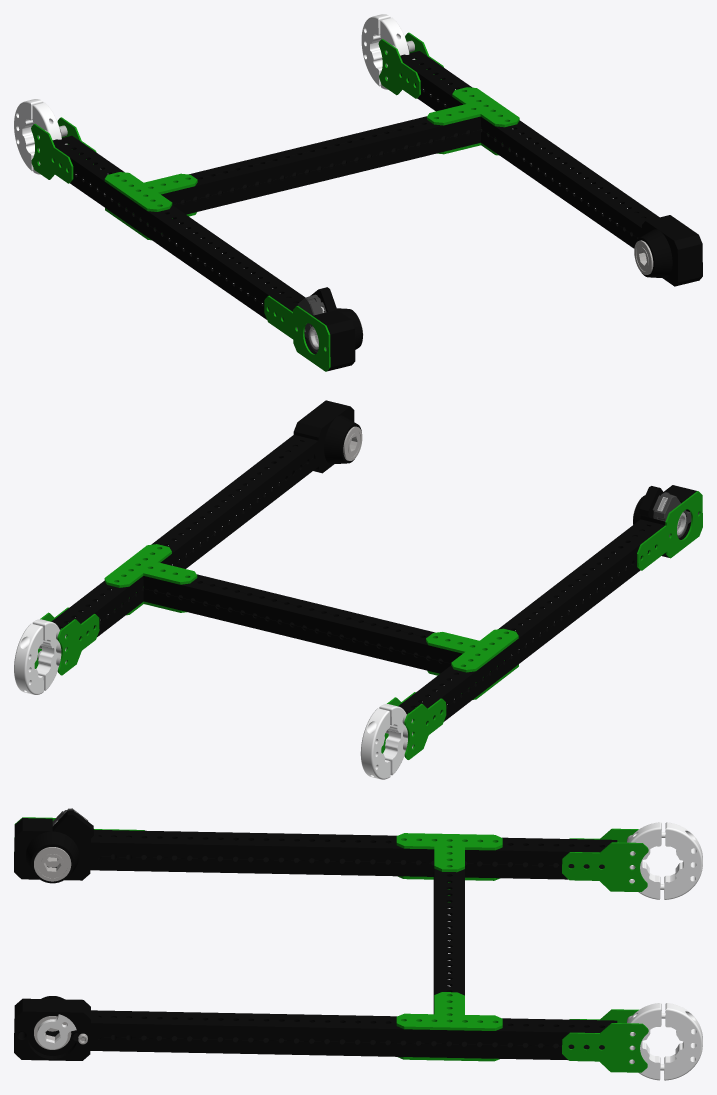
The picture shows the model from 3 angles, top to bottom: view 1: azimuth 30°, elevation 25°; view 2: azimuth 150°, elevation 25°; view 3: azimuth 270°, elevation 25°; orthographic projection. The views are drawn at different scales.
Parts seen in each view (by area): view 1: Solid1 (×12), Solid2 (×2); view 2: Solid1 (×12), Solid2 (×2); view 3: Solid1 (×13), Solid2 (×2).
Part boxes in pixels (bbox=[...]): Solid1 (×12): bbox=[14, 17, 702, 371]; Solid2 (×2): bbox=[32, 14, 390, 174]; Solid1 (×12): bbox=[32, 400, 702, 779]; Solid2 (×2): bbox=[14, 623, 407, 775]; Solid1 (×13): bbox=[14, 810, 702, 1080]; Solid2 (×2): bbox=[627, 822, 702, 1080].
Bounding box in the file's own units: 0.389 × 0.0816 × 0.5733.
